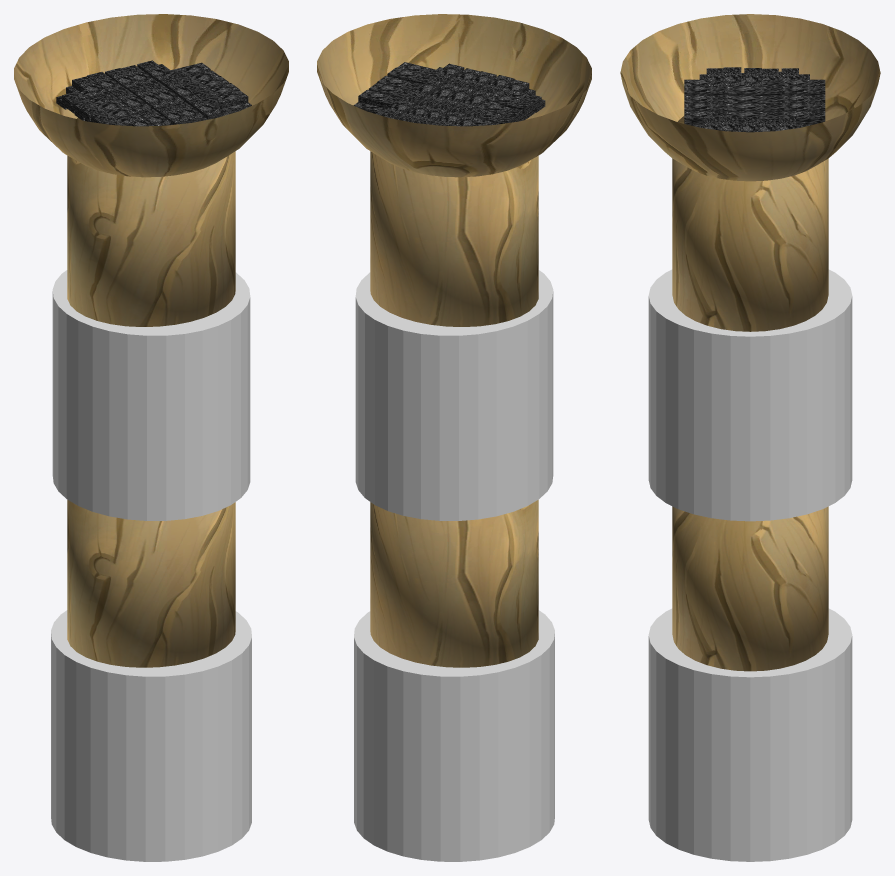
The model's file is деревяный столб 22222222.fbx.
3 views of the same model, side by side, from view 1: azimuth 30°, elevation 25°; view 2: azimuth 150°, elevation 25°; view 3: azimuth 270°, elevation 25° (orthographic).
Visible parts, largest first — view 1: Cylinder, Cylinder.002, Sphere, Cylinder.003, Cylinder.001, Cube.018; view 2: Cylinder, Cylinder.002, Sphere, Cylinder.003, Cylinder.001, Cube.020; view 3: Cylinder, Cylinder.002, Sphere, Cylinder.003, Cylinder.001, Cube.049, Cube.045, Cube.047.
Boxes of the visible parts, x1,y1,x2,y2 form: Cylinder: (51,610,251,861); Cylinder.002: (52,270,250,520); Sphere: (14,14,288,177); Cylinder.003: (67,118,235,326); Cylinder.001: (67,499,235,667); Cube.018: (202,90,248,109); Cylinder: (354,610,554,861); Cylinder.002: (355,270,553,520); Sphere: (317,14,591,177); Cylinder.003: (370,118,538,326); Cylinder.001: (370,499,538,667); Cube.020: (358,89,404,108); Cylinder: (648,608,852,861); Cylinder.002: (648,269,852,521); Sphere: (620,14,880,181); Cylinder.003: (672,116,828,331); Cylinder.001: (672,506,828,671); Cube.049: (724,86,784,95); Cube.045: (724,103,784,111); Cube.047: (724,95,784,103).
Size of the model in its own units: 384 by 1129 by 357.
